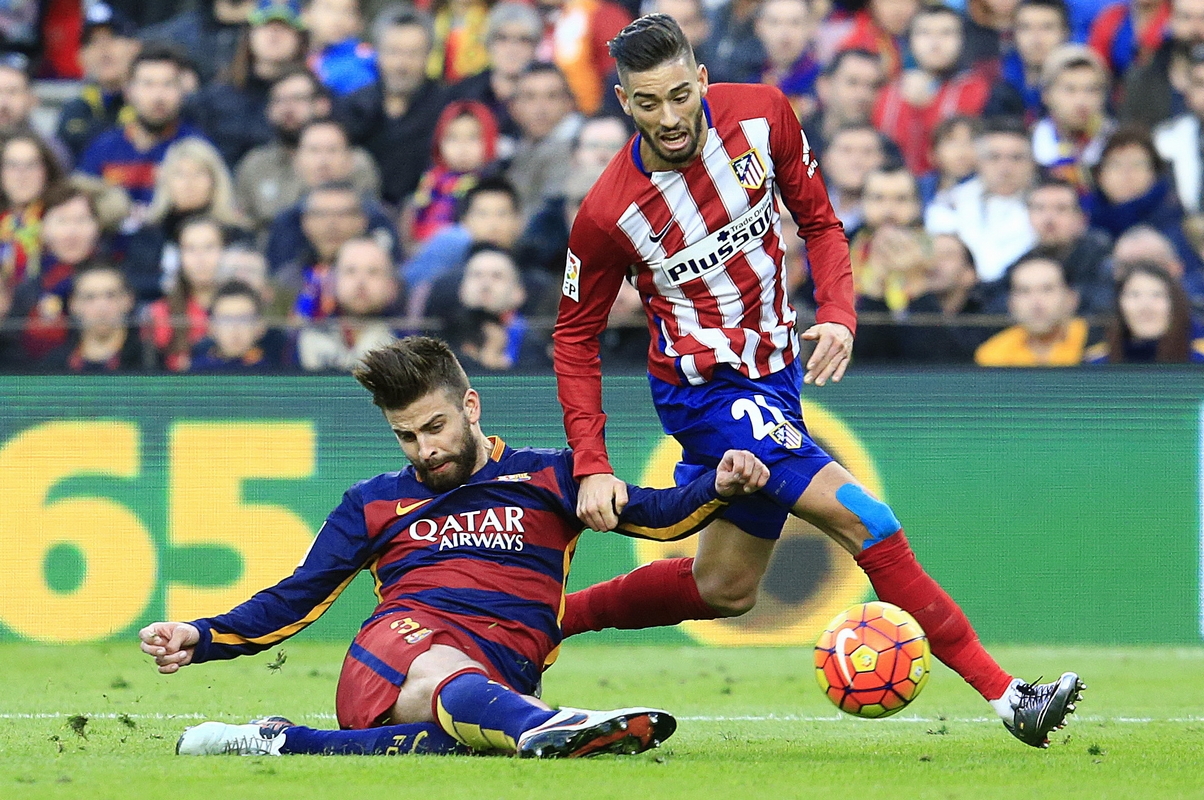10+: (1, 1, 1204, 774)
down: (117, 325, 768, 784)
